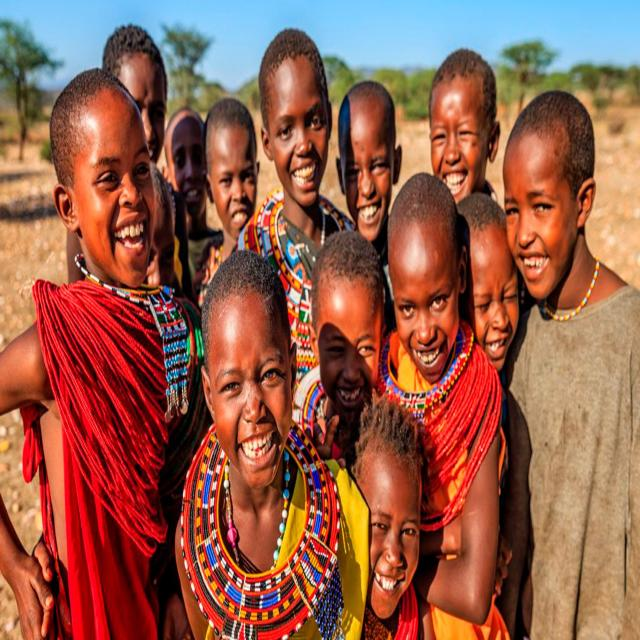child: (0, 67, 210, 640), (499, 84, 639, 640), (177, 250, 347, 640), (381, 173, 500, 640), (233, 23, 359, 332), (298, 231, 382, 468), (352, 395, 423, 640), (336, 72, 402, 269), (452, 192, 519, 370), (428, 46, 497, 208), (202, 94, 262, 263), (164, 105, 215, 253)
